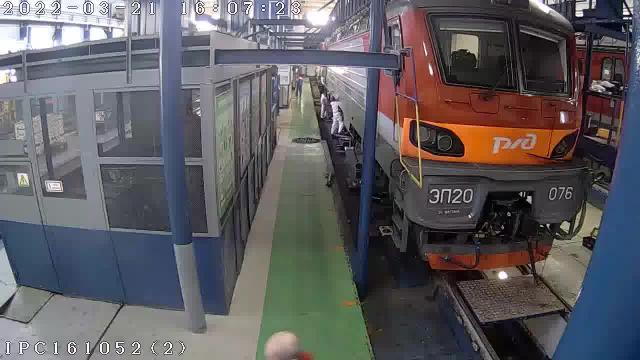person: (265, 331, 312, 359), (330, 96, 343, 135), (321, 89, 330, 119), (296, 74, 302, 98)
train: (376, 0, 588, 269)
